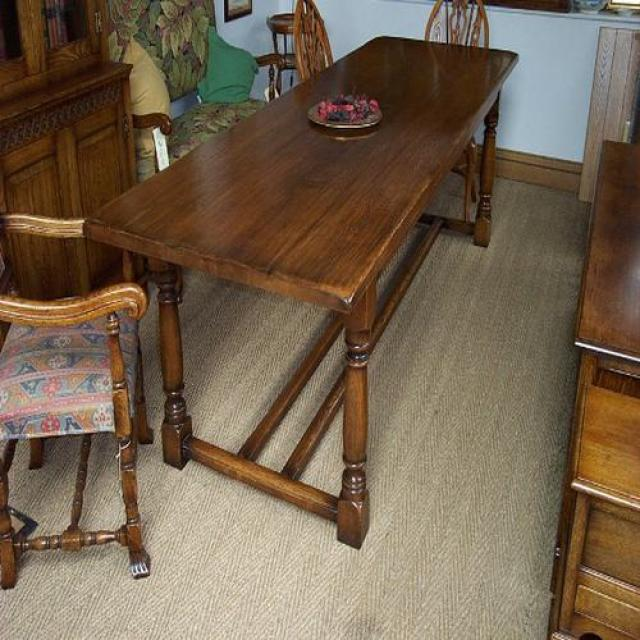table: (82, 37, 521, 552)
